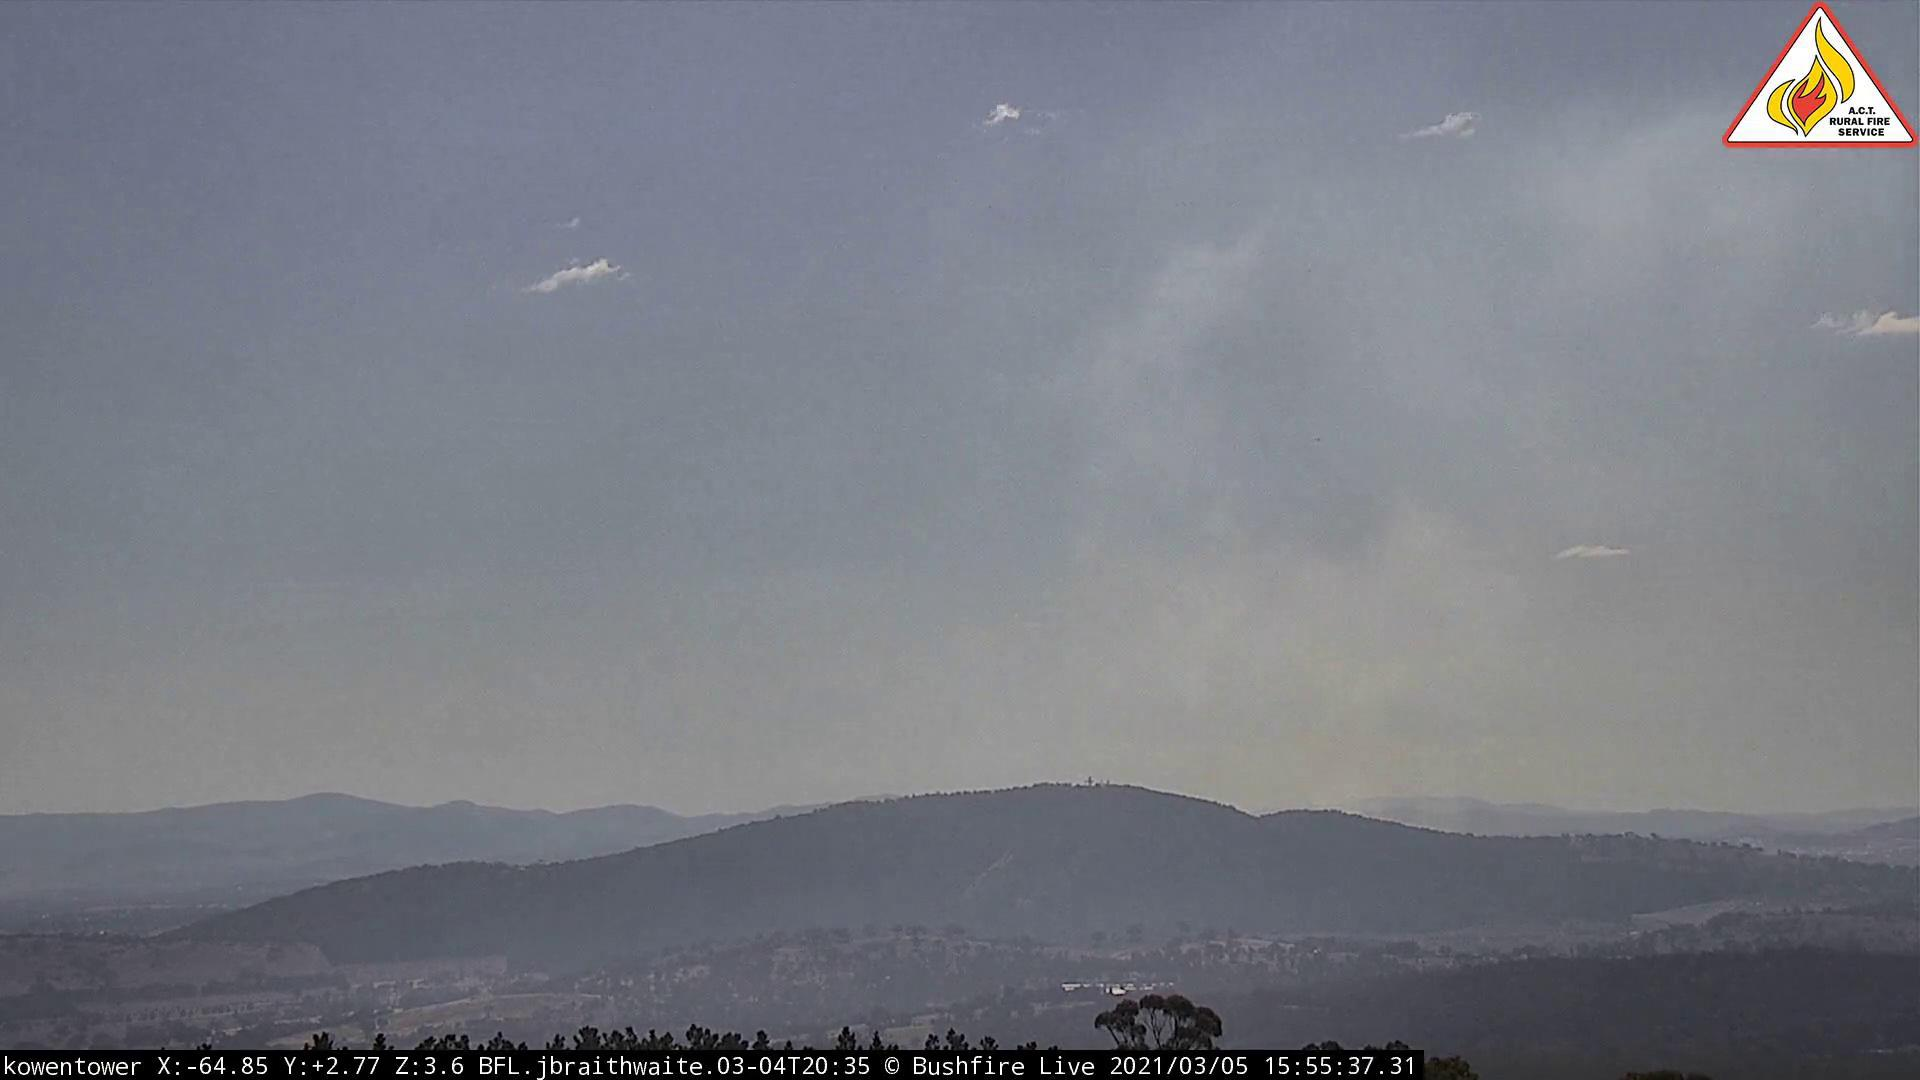Smoke: (996, 165, 1853, 829)
